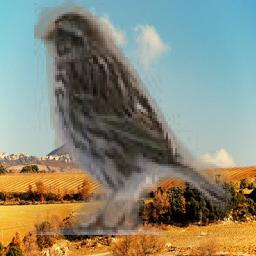Sparrow: (35, 1, 234, 236)
